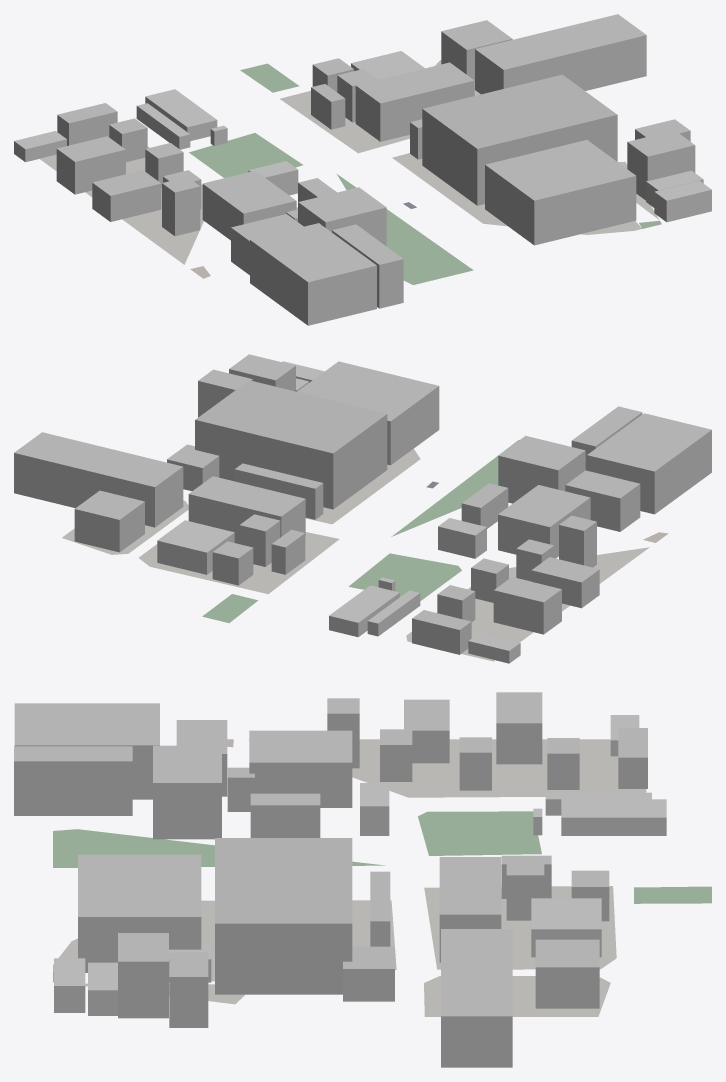
The model's file is 129_110_mid.glb.
The picture shows the model from 3 angles, top to bottom: view 1: azimuth 30°, elevation 25°; view 2: azimuth 150°, elevation 25°; view 3: azimuth 270°, elevation 25°; orthographic projection. The views are drawn at different scales.
Size of the model in its own units: 606 by 60.26 by 530.
